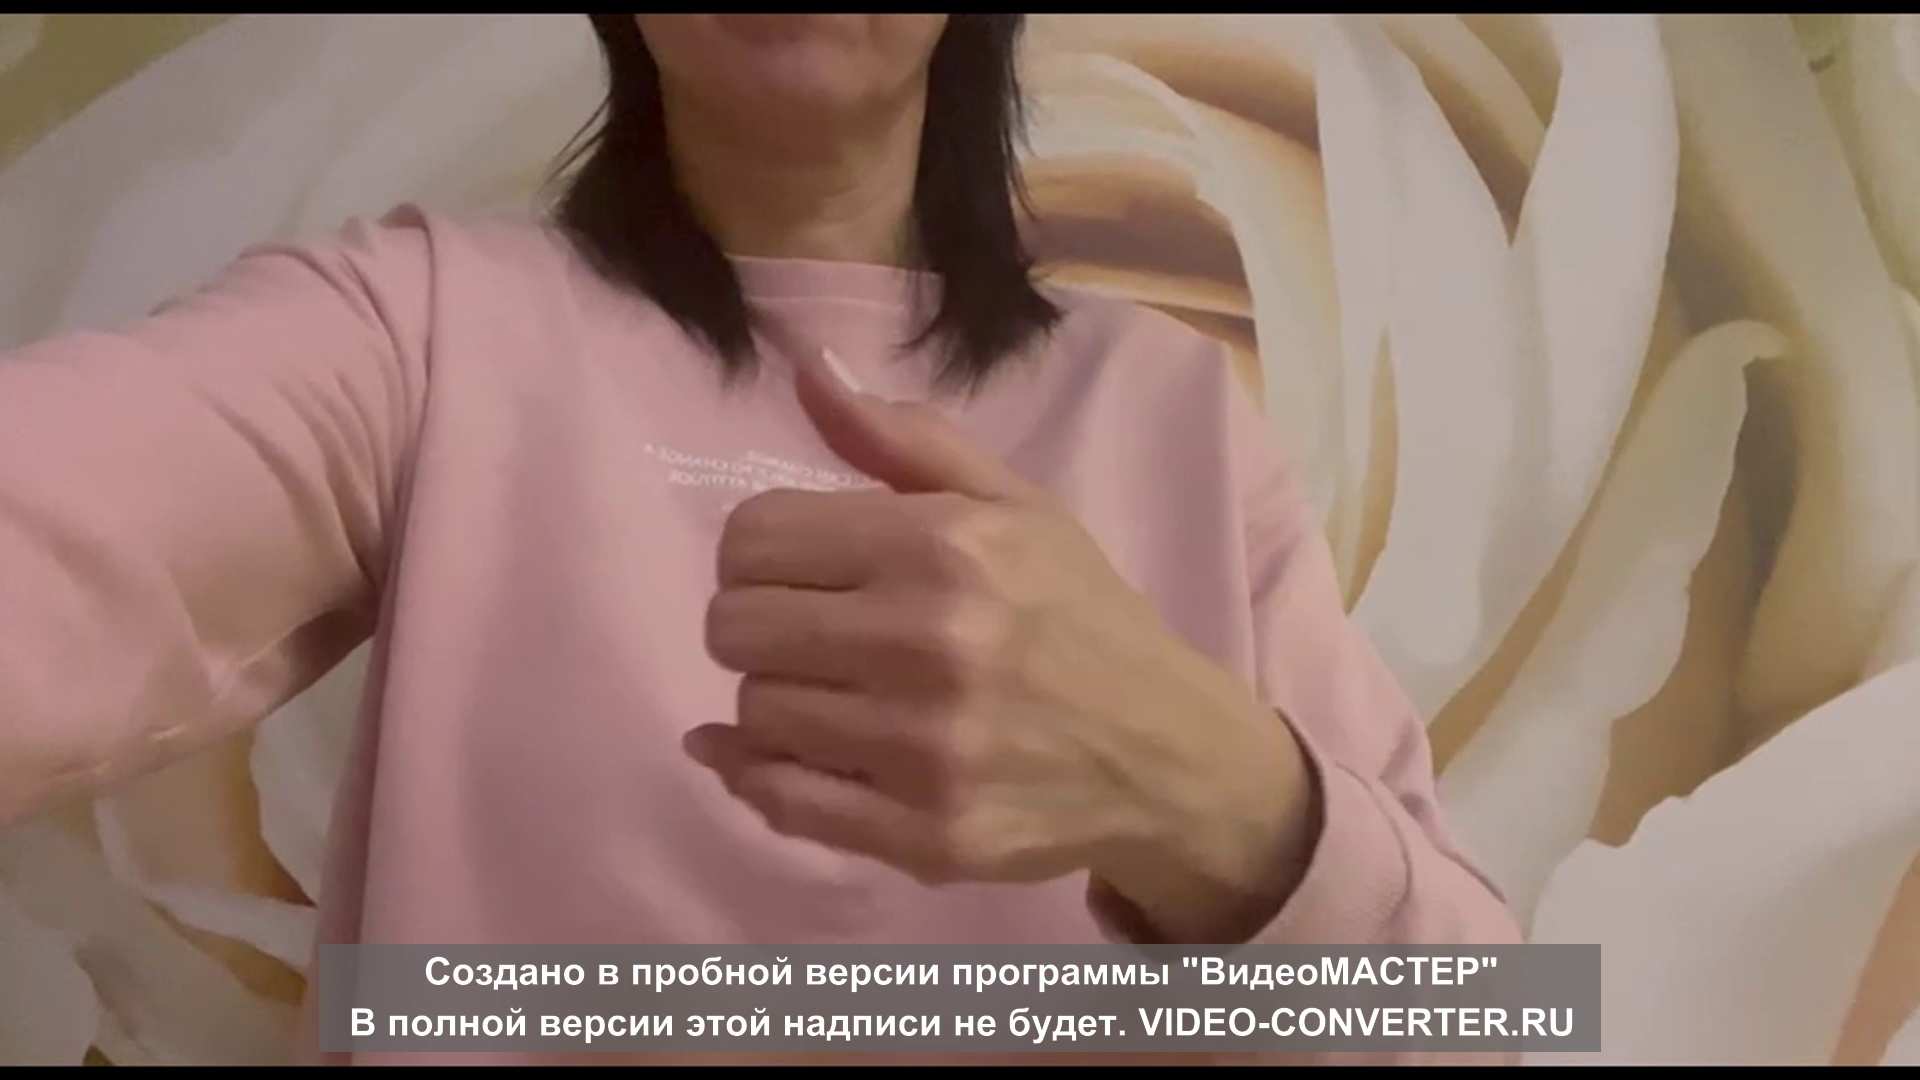Кисть: (682, 345, 1187, 887)
